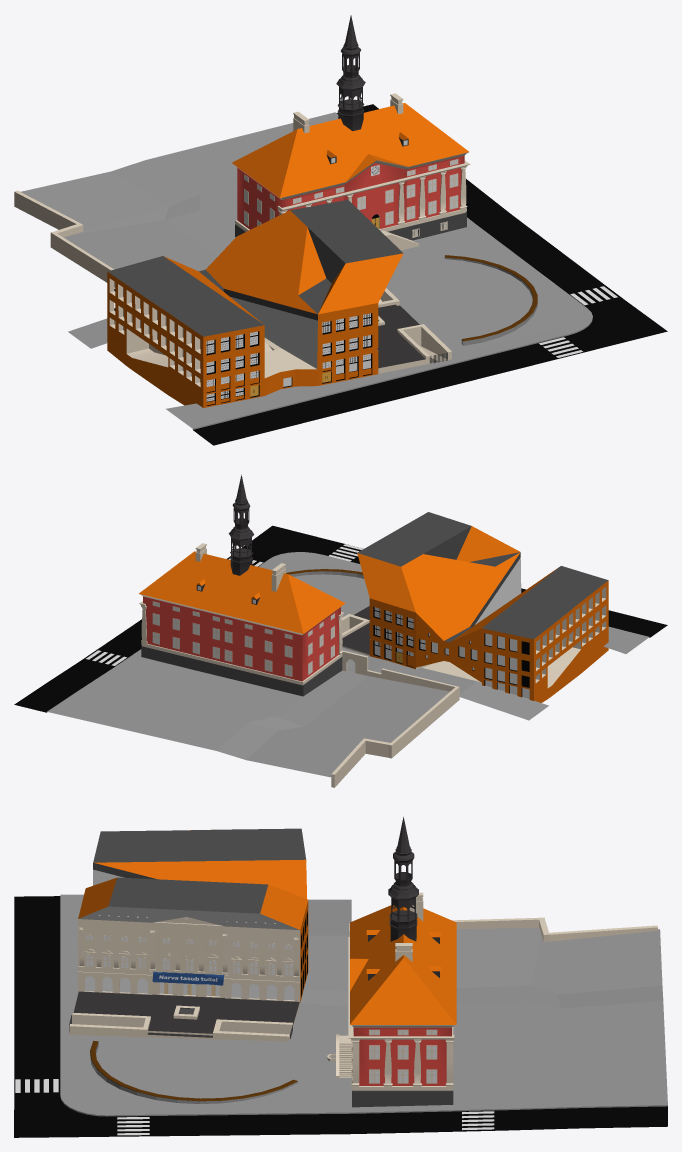
Rendered from Town_Hall_Square.fbx.
3 views of the same model, one above another, from view 1: azimuth 30°, elevation 25°; view 2: azimuth 150°, elevation 25°; view 3: azimuth 270°, elevation 25° (orthographic). The views are drawn at different scales.
Parts seen in each view (by area): view 1: Plane, Kollege_Main, Raekoda_Main, Base, Wall, Circle, Raekoda_Lower_Part, Sitdown, Windows_Front_Big_Right, Column_FrontR, Cube.001; view 2: Plane, Kollege_Main, Raekoda_Main, Wall, Raekoda_Lower_Part, Circle, Base, Windows_Back_Big_Right, Windows_Back_Big_Left; view 3: Plane, Kollege_Main, Raekoda_Main, Base, Circle, Raekoda_Lower_Part, Wall, Sitdown, Windows_Right_Big, Flag, Cube.004, Cube.001 (+1 smaller).
Part boxes in pixels (box(x1,y1,x2,y2)): Plane: box(20, 104, 667, 445); Kollege_Main: box(107, 200, 403, 407); Raekoda_Main: box(232, 103, 468, 229); Base: box(377, 288, 451, 373); Wall: box(14, 190, 115, 287); Circle: box(336, 15, 365, 131); Raekoda_Lower_Part: box(235, 208, 466, 240); Sitdown: box(444, 255, 537, 345); Windows_Front_Big_Right: box(385, 173, 458, 225); Column_FrontR: box(397, 171, 446, 224); Cube.001: box(277, 160, 470, 211); Plane: box(14, 525, 667, 777); Kollege_Main: box(357, 512, 608, 702); Raekoda_Main: box(139, 551, 345, 681); Wall: box(331, 650, 459, 787); Raekoda_Lower_Part: box(141, 643, 342, 696); Circle: box(228, 474, 254, 575); Base: box(341, 606, 370, 655); Windows_Back_Big_Right: box(224, 630, 292, 676); Windows_Back_Big_Left: box(152, 613, 219, 659); Plane: box(14, 894, 667, 1137); Kollege_Main: box(78, 828, 308, 1003); Raekoda_Main: box(350, 905, 456, 1085); Base: box(69, 991, 299, 1041); Circle: box(388, 817, 418, 941); Raekoda_Lower_Part: box(352, 1026, 453, 1107); Wall: box(349, 917, 657, 942); Sitdown: box(90, 1040, 297, 1103); Windows_Right_Big: box(369, 1045, 437, 1083); Flag: box(152, 971, 224, 985); Cube.004: box(327, 1034, 351, 1077); Cube.001: box(348, 937, 454, 1039).
Size of the model in its own units: 10299 by 5084 by 11590.
